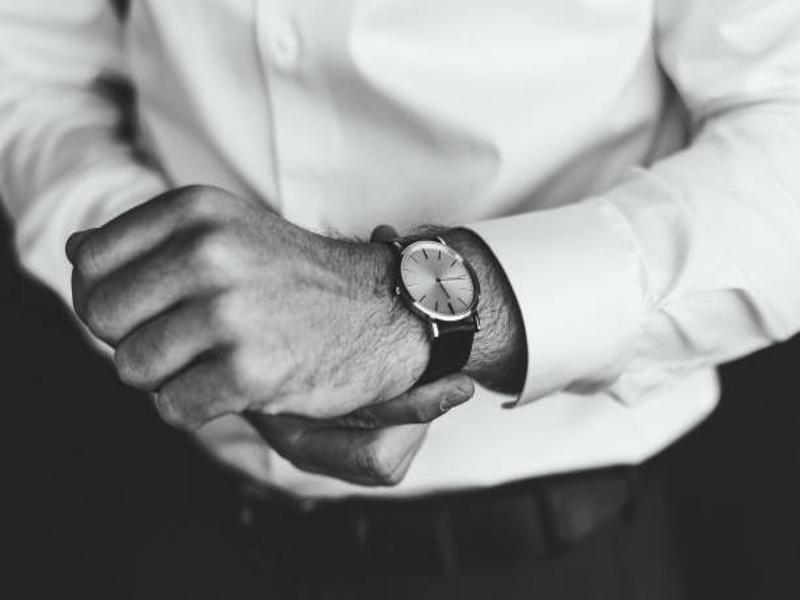watch: (378, 232, 481, 393)
